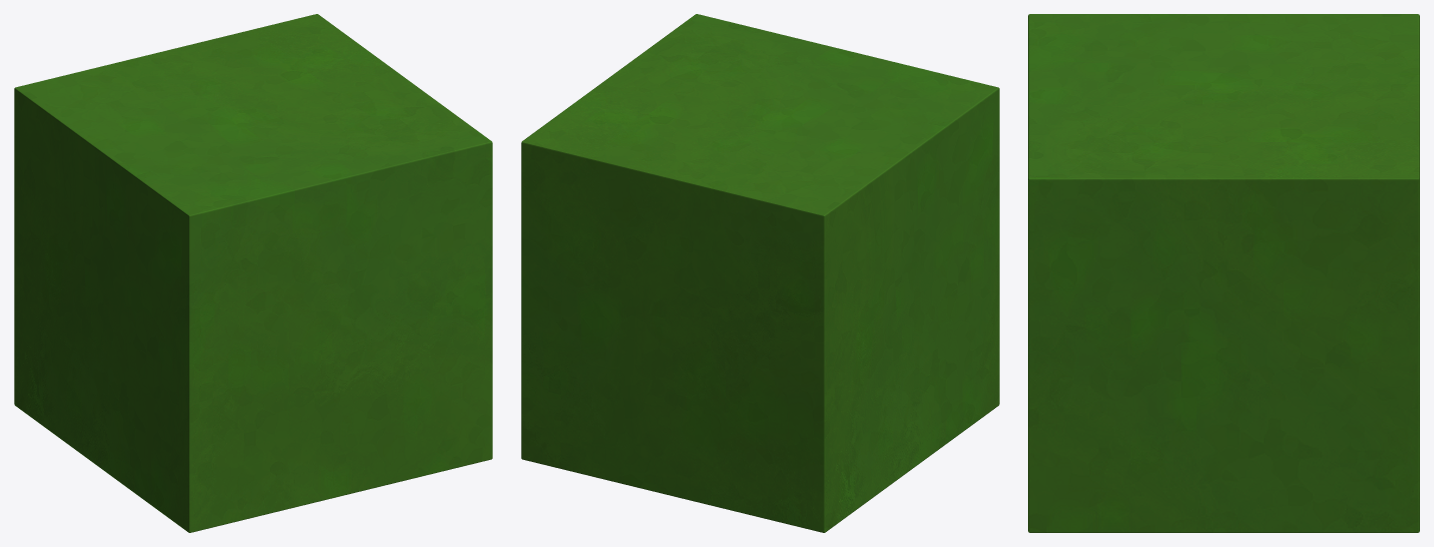
The model's file is cube-music-gem.glb.
3 renders of one model, left to right at view 1: azimuth 30°, elevation 25°; view 2: azimuth 150°, elevation 25°; view 3: azimuth 270°, elevation 25°, orthographic. The views are drawn at different scales.
Parts seen in each view (by area): view 1: cube-music-gem; view 2: cube-music-gem; view 3: cube-music-gem.
Part boxes in pixels (x1,y1,x2,y2): cube-music-gem: (14, 14, 492, 532); cube-music-gem: (521, 14, 999, 532); cube-music-gem: (1028, 14, 1419, 532).
Bounding box in the file's own units: 0.6537 × 0.6537 × 0.6537.
Materials: 1 (1 with a texture image).
